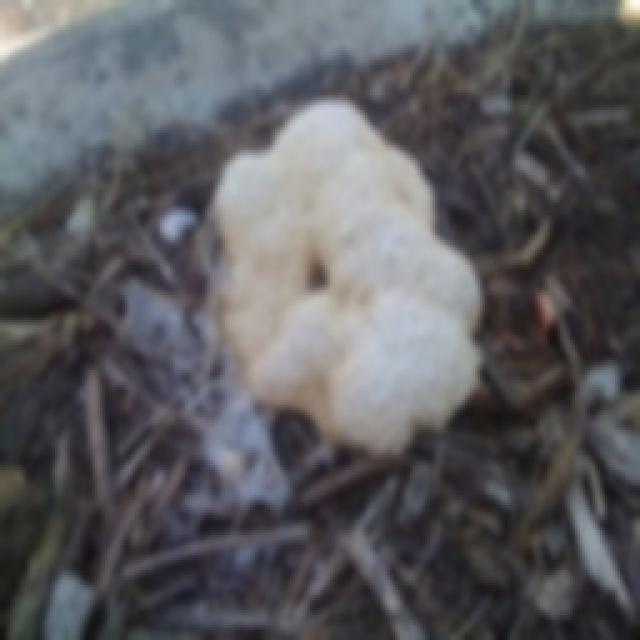Dog_vomit_slime_mold: (167, 96, 475, 472)
